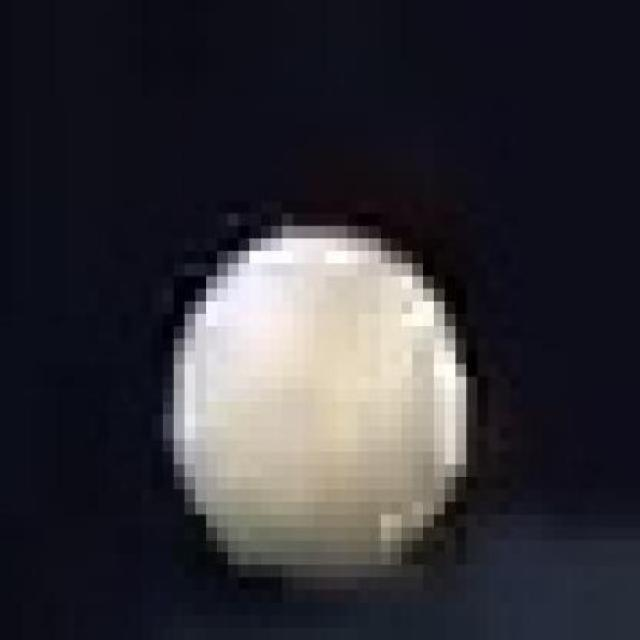Cricket ball: (160, 219, 478, 595)
